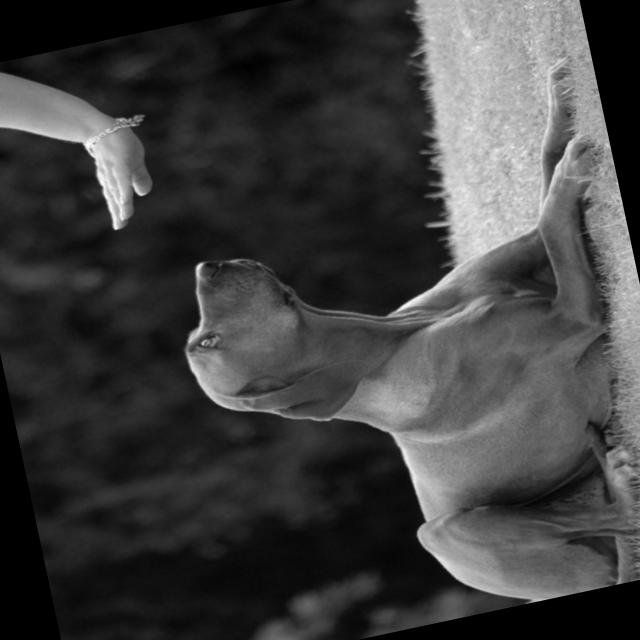laying down: (135, 50, 640, 640)
